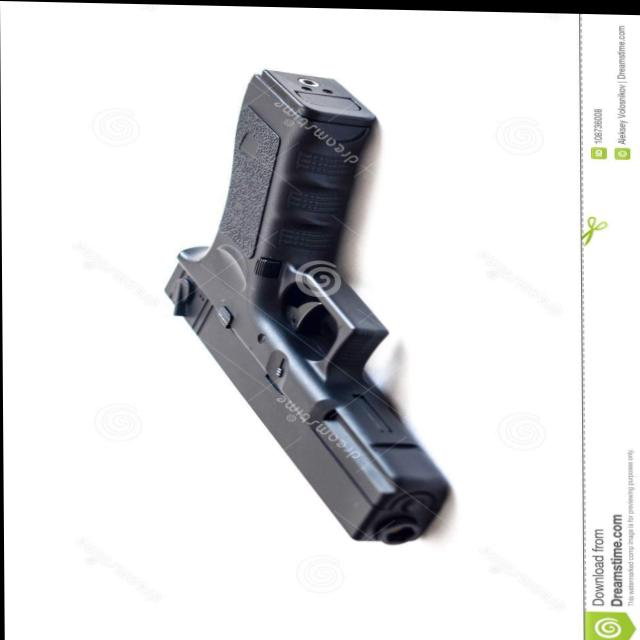handgun: (161, 67, 487, 540)
